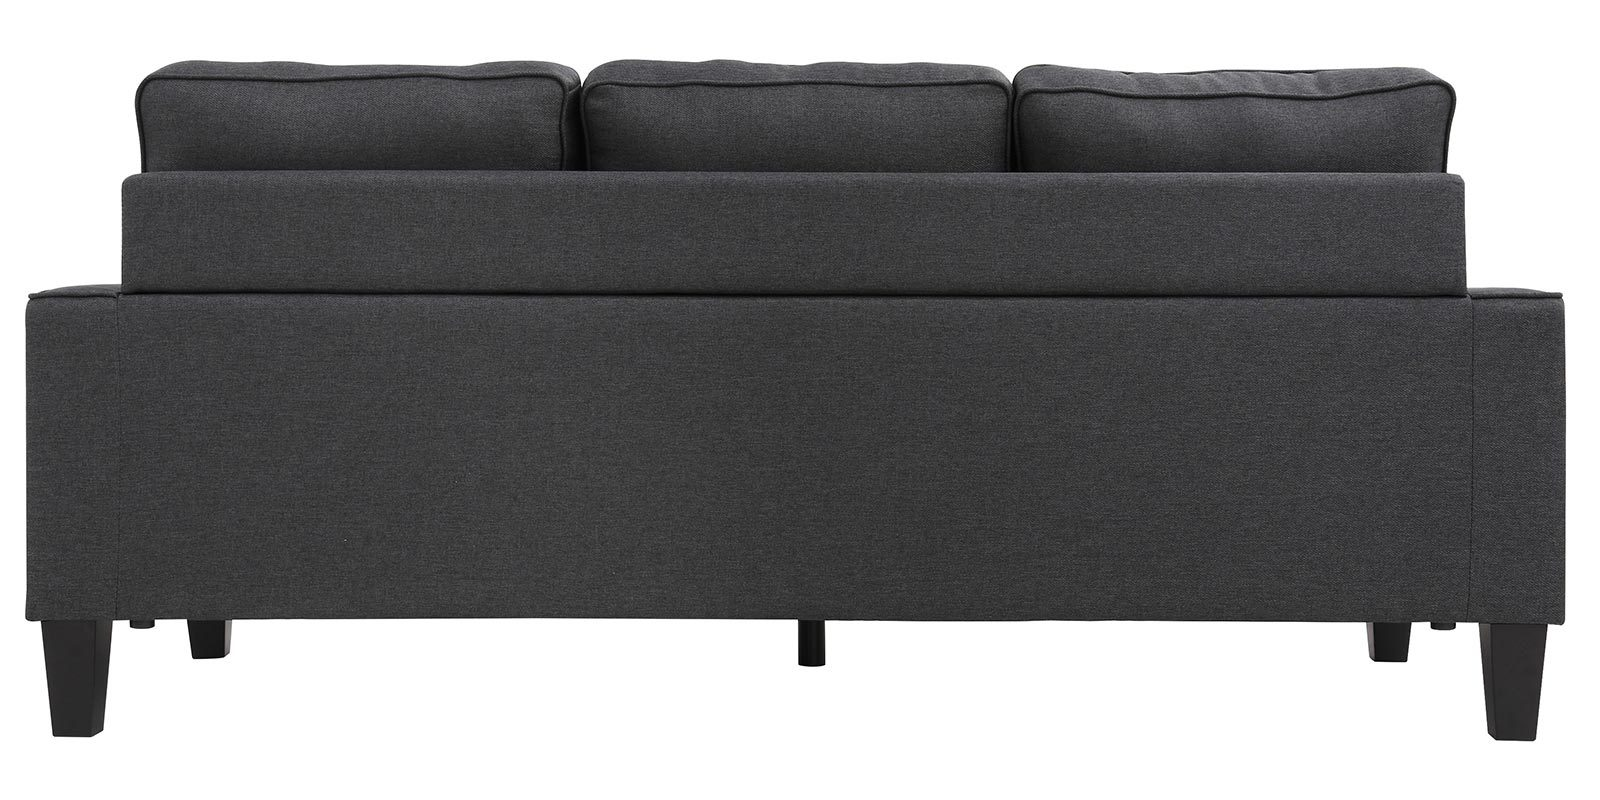Alice Three Seater Sofa in Grey Colour by Zofa: (28, 46, 1576, 763)
